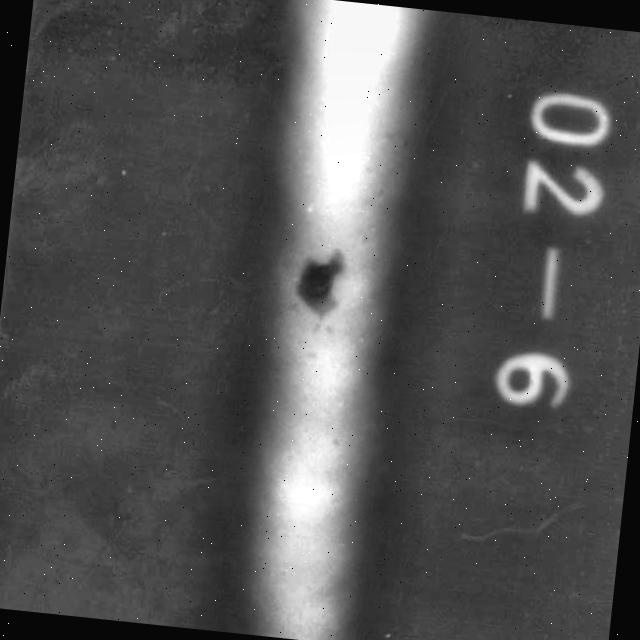Slag: (282, 238, 356, 320)
